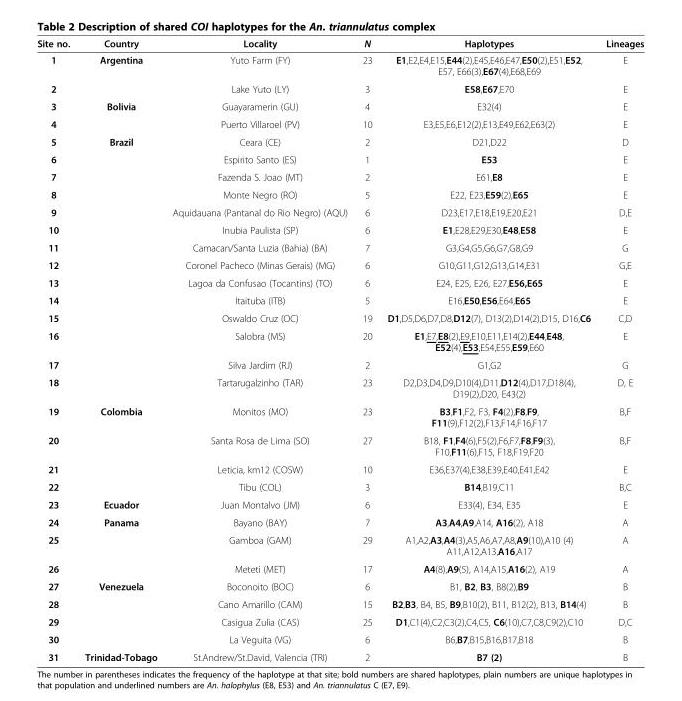table: (36, 37, 643, 662)
table column: (379, 37, 597, 662), (164, 37, 354, 662), (76, 37, 164, 662), (597, 37, 643, 662), (36, 37, 76, 662), (354, 37, 379, 662)
table column header: (36, 37, 643, 51)
table row: (36, 326, 643, 355), (36, 373, 643, 402), (36, 402, 643, 431), (36, 431, 643, 460), (36, 530, 643, 559), (36, 51, 643, 79), (36, 79, 643, 97), (36, 114, 643, 132), (36, 132, 643, 150), (36, 167, 643, 185), (36, 185, 643, 203), (36, 220, 643, 238), (36, 238, 643, 256), (36, 273, 643, 291), (36, 308, 643, 326), (36, 355, 643, 373), (36, 477, 643, 495), (36, 495, 643, 513), (36, 559, 643, 577), (36, 594, 643, 612), (36, 612, 643, 630), (36, 97, 643, 114), (36, 150, 643, 167), (36, 203, 643, 220), (36, 256, 643, 273), (36, 291, 643, 308), (36, 460, 643, 477), (36, 513, 643, 530), (36, 577, 643, 594), (36, 630, 643, 647), (36, 647, 643, 662), (36, 37, 643, 51)
